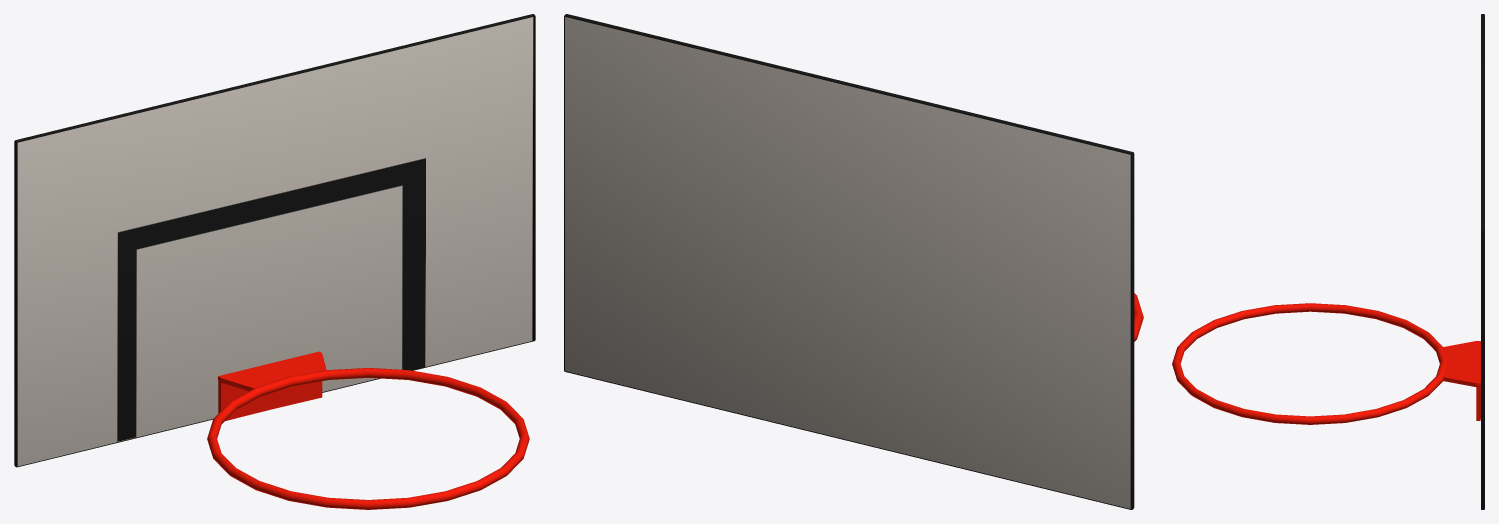
The model's file is basketball frame.fbx.
The picture shows the model from 3 angles, left to right: view 1: azimuth 30°, elevation 25°; view 2: azimuth 150°, elevation 25°; view 3: azimuth 270°, elevation 25°; orthographic projection. The views are drawn at different scales.
Visible parts, largest first — view 1: basketball frame, basketball hoop; view 2: basketball frame; view 3: basketball hoop, basketball frame.
Boxes of the visible parts, bbox=[...] form: basketball frame: bbox=[14, 14, 535, 467]; basketball hoop: bbox=[207, 351, 529, 509]; basketball frame: bbox=[564, 14, 1134, 509]; basketball hoop: bbox=[1172, 303, 1480, 424]; basketball frame: bbox=[1481, 14, 1484, 509].
Size of the model in its own units: 125 by 75.33 by 76.1.
